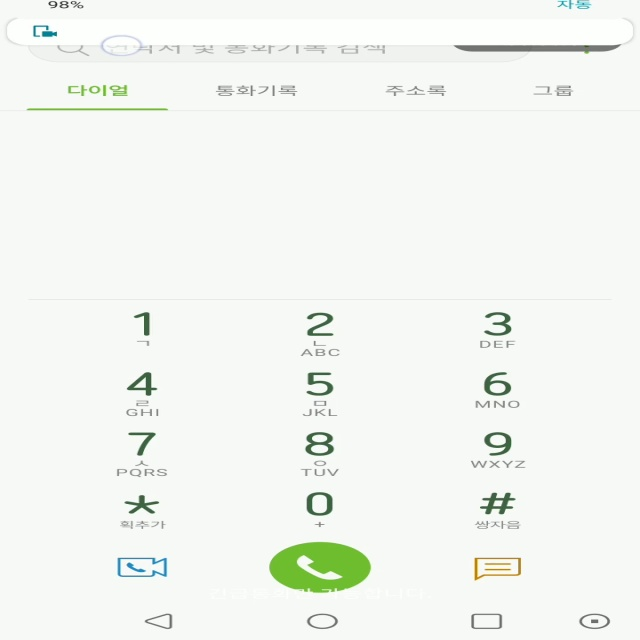Cursor: (100, 34, 144, 57)
